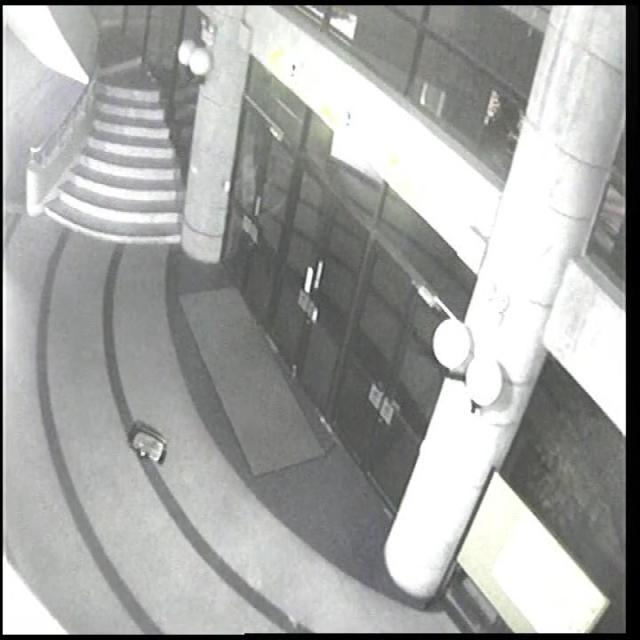abandoned-object: (113, 397, 188, 502)
